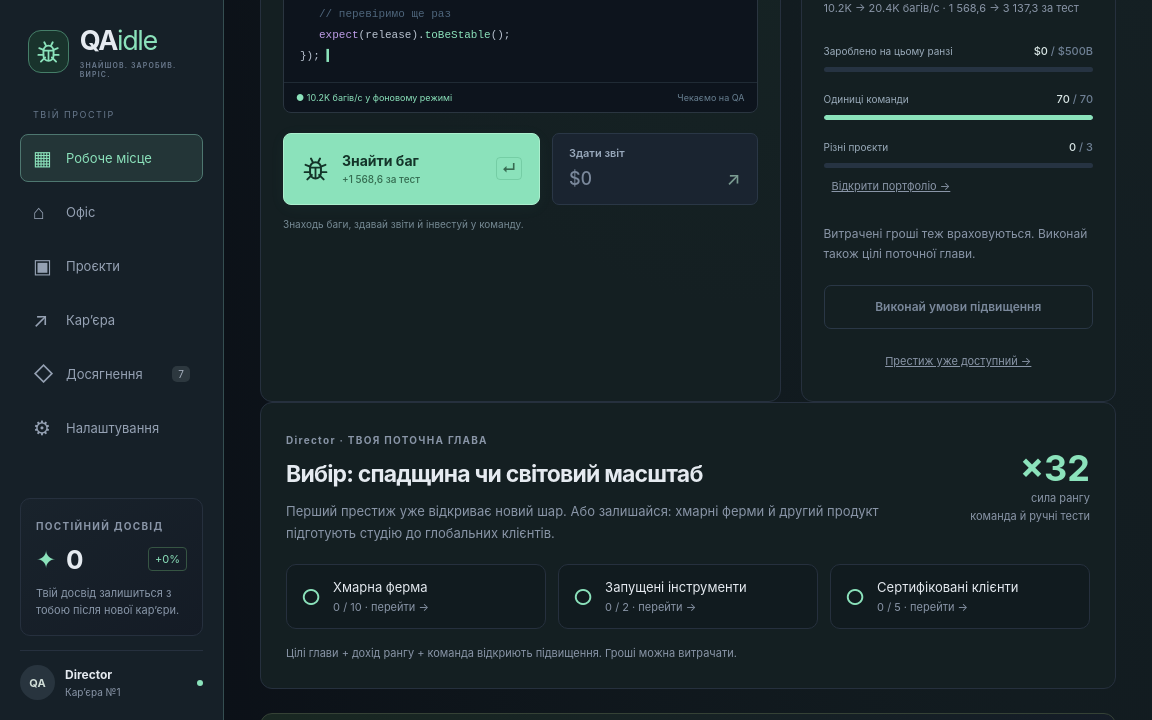
Test case: studio UI › shows certificate gates after Director and still offers the original prestige
The image size is (1152, 720).
(page scrolled)
Expected: the button "Виконай умови підвищення" is disabled, top-left (824, 285), bottom-right (1093, 329)
Click the button "Престиж уже доступний →". click: [958, 361]
box: top-left (877, 343), bottom-right (1039, 379)
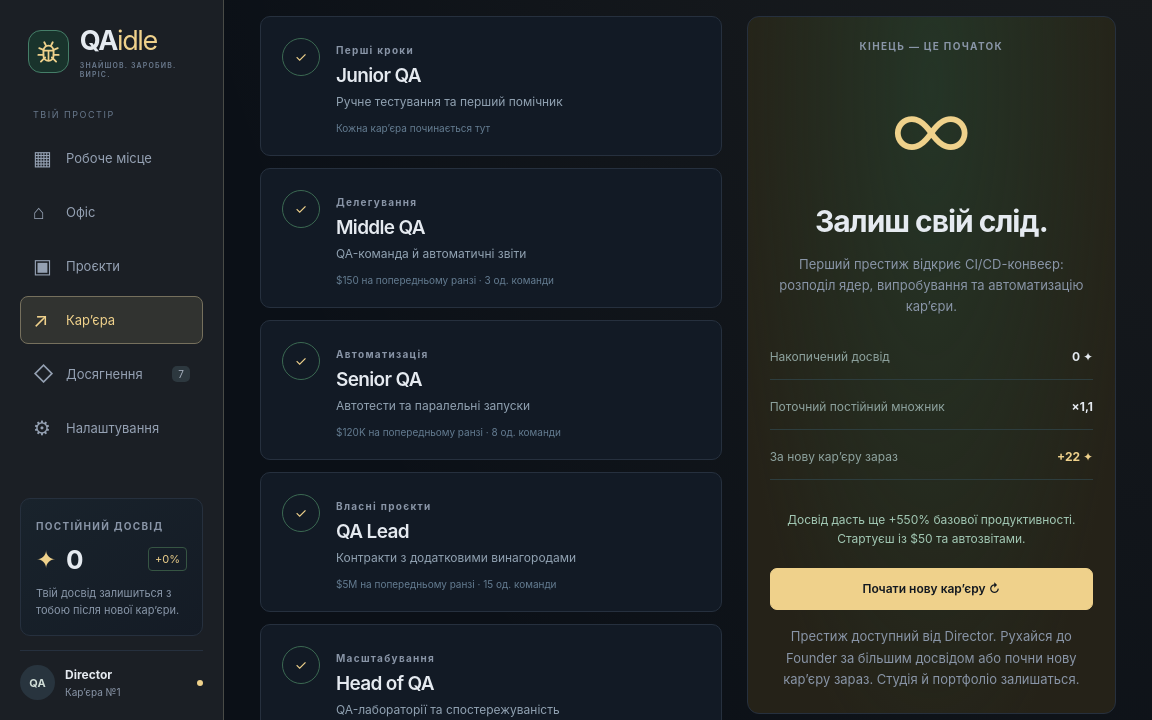
Expected: the button "Почати нову кар’єру ↻" is enabled, top-left (770, 568), bottom-right (1093, 610)
